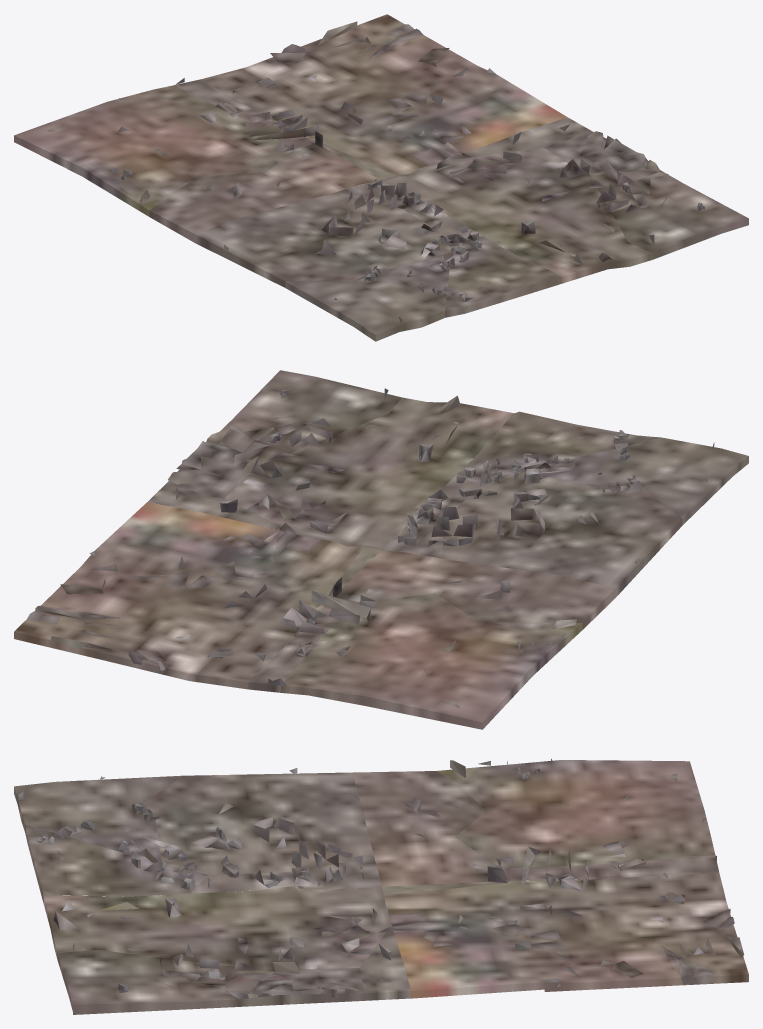
3 views of the same model, one above another, from view 1: azimuth 30°, elevation 25°; view 2: azimuth 150°, elevation 25°; view 3: azimuth 270°, elevation 25° (orthographic). The views are drawn at different scales.
Parts seen in each view (by area): view 1: Mesh_0; view 2: Mesh_0; view 3: Mesh_0.
Boxes of the visible parts, x1,y1,x2,y2 form: Mesh_0: (14, 14, 748, 341); Mesh_0: (14, 370, 748, 729); Mesh_0: (14, 758, 748, 1014).
Bounding box in the file's own units: 2131 × 128 × 2637.
1 material, 1 textured.
